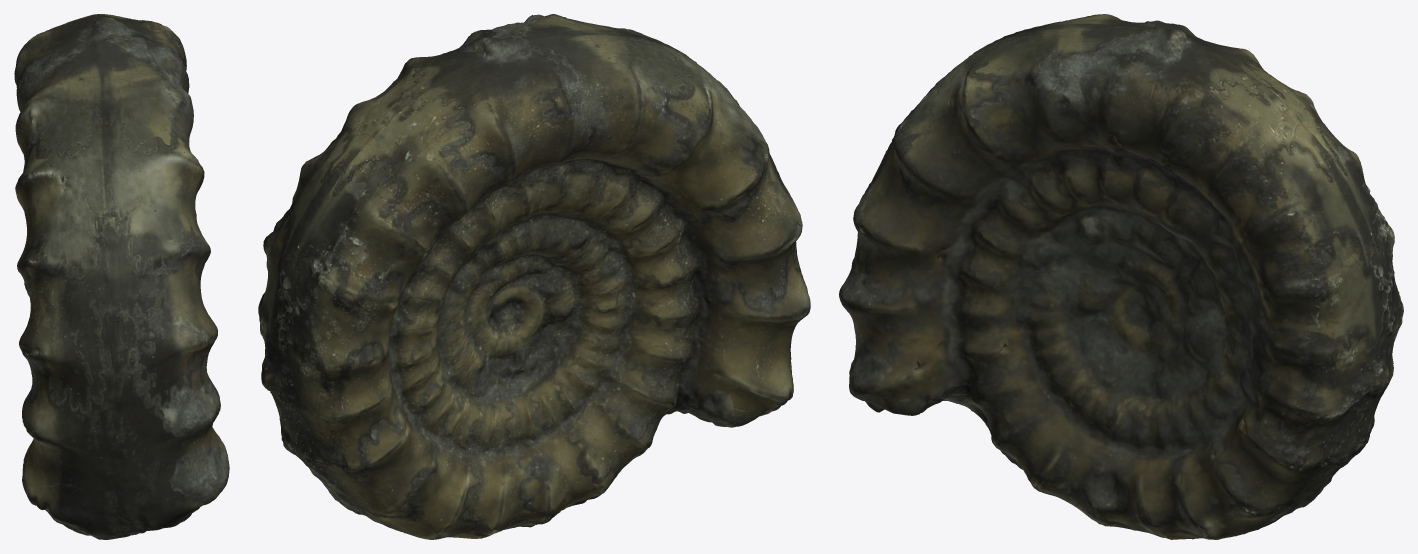
The model's file is echioceras_raricostatum.glb.
3 views of the same model, side by side, from view 1: azimuth 30°, elevation 25°; view 2: azimuth 150°, elevation 25°; view 3: azimuth 270°, elevation 25° (orthographic). The views are drawn at different scales.
Visible parts, largest first — view 1: Model; view 2: Model; view 3: Model.
Part boxes in pixels (x1,y1,x2,y2): Model: (14,14,229,539); Model: (258,14,810,539); Model: (839,14,1403,539).
Bounding box in the file's own units: 1.02 × 1.38 × 1.42.
Materials: 1 (1 with a texture image).
